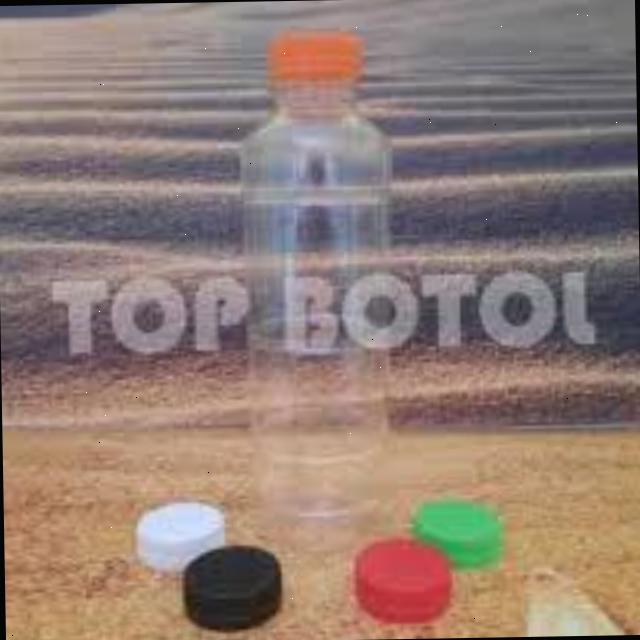trash: (229, 19, 406, 538)
